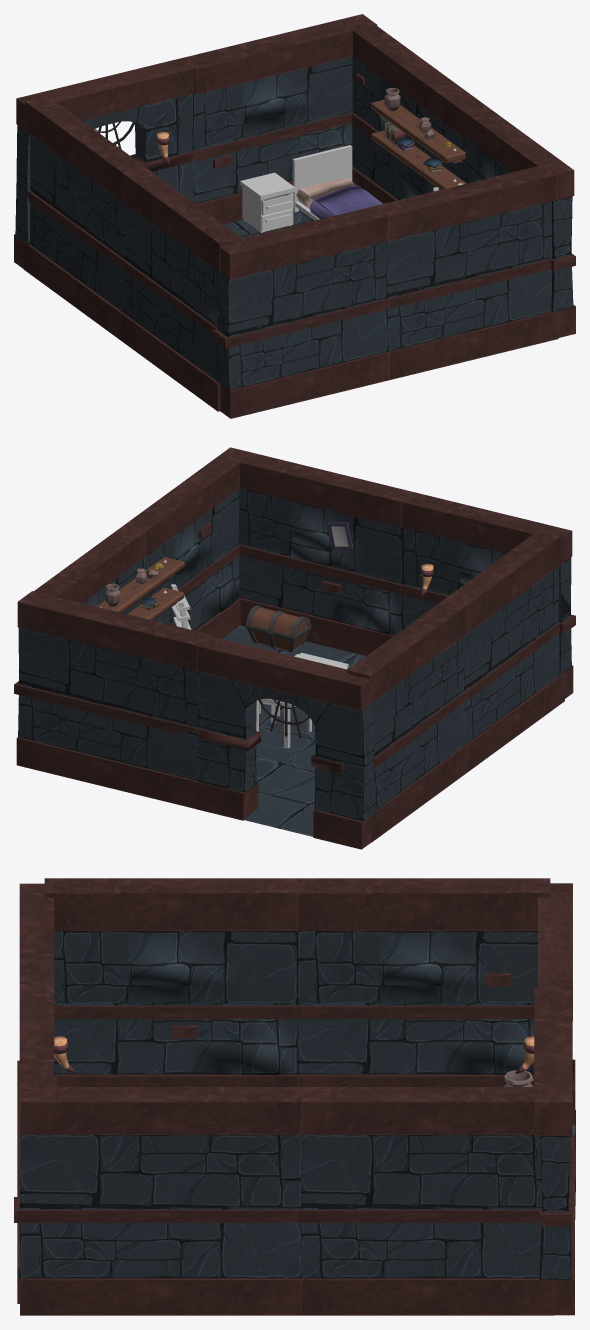
The model's file is TesteCenario.fbx.
The picture shows the model from 3 angles, top to bottom: view 1: azimuth 30°, elevation 25°; view 2: azimuth 150°, elevation 25°; view 3: azimuth 270°, elevation 25°; orthographic projection. The views are drawn at different scales.
Parts seen in each view (by area): view 1: Cube.005, Cube.006, Cube.004, Cube.003, Cube.002, Cube.014, Cube.070, Cube.069, Cube.100, Cube.034, Cube.035, Plane.028 (+1 smaller); view 2: Cube.005, Cube.003, Cube.004, Cube.014, Cube.002, Cube.006, Plane.028, Bau.001, Cube.034, Cube.015, Bau.002, Cube.035 (+2 smaller); view 3: Cube.002, Cube.005, Cube.003, Cube.004, Cube.014, Cube.006.
Part boxes in pixels (x1=…): Cube.005: x1=23, y1=95, x2=242, y2=411; Cube.006: x1=207, y1=206, x2=391, y2=418; Cube.004: x1=375, y1=164, x2=558, y2=380; Cube.003: x1=181, y1=14, x2=377, y2=224; Cube.002: x1=345, y1=19, x2=575, y2=337; Cube.014: x1=14, y1=58, x2=194, y2=268; Cube.070: x1=292, y1=145, x2=352, y2=220; Cube.069: x1=240, y1=172, x2=295, y2=232; Cube.100: x1=296, y1=178, x2=382, y2=219; Cube.034: x1=371, y1=99, x2=465, y2=163; Cube.035: x1=371, y1=130, x2=465, y2=189; Plane.028: x1=224, y1=208, x2=314, y2=237; Cube.005: x1=347, y1=528, x2=564, y2=842; Cube.003: x1=14, y1=591, x2=212, y2=808; Cube.004: x1=234, y1=451, x2=414, y2=655; Cube.014: x1=195, y1=636, x2=375, y2=849; Cube.002: x1=26, y1=447, x2=246, y2=638; Cube.006: x1=400, y1=492, x2=575, y2=698; Plane.028: x1=185, y1=625, x2=366, y2=842; Bau.001: x1=245, y1=605, x2=311, y2=638; Cube.034: x1=96, y1=557, x2=184, y2=612; Cube.015: x1=198, y1=728, x2=343, y2=773; Bau.002: x1=246, y1=627, x2=311, y2=652; Cube.035: x1=127, y1=587, x2=184, y2=620; Cube.002: x1=14, y1=1087, x2=554, y2=1315; Cube.005: x1=44, y1=878, x2=550, y2=1086; Cube.003: x1=534, y1=987, x2=574, y2=1315; Cube.004: x1=17, y1=984, x2=54, y2=1303; Cube.014: x1=538, y1=883, x2=575, y2=1199; Cube.006: x1=17, y1=883, x2=56, y2=1160.
Size of the model in its own units: 3385 by 1533 by 3523.
